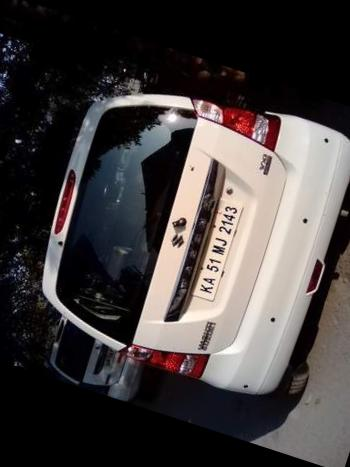plate: (187, 190, 254, 305)
